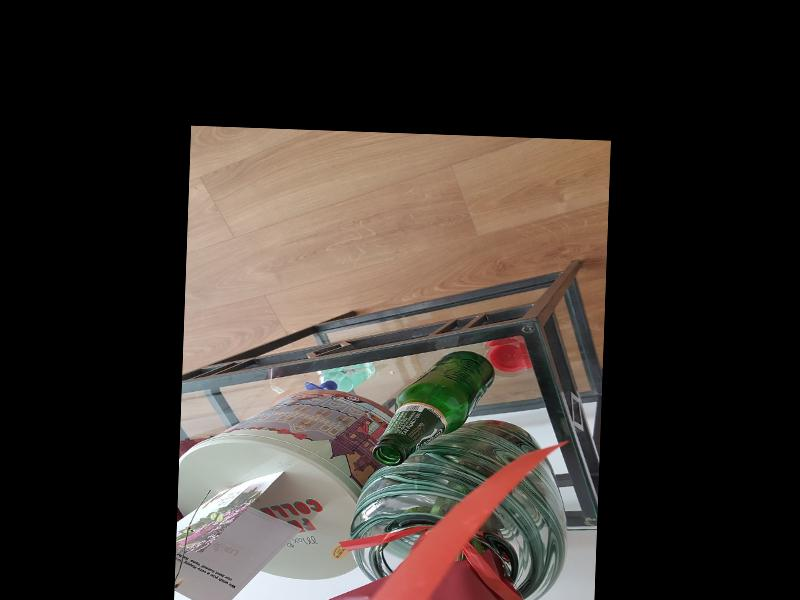Beer: (373, 348, 496, 469)
